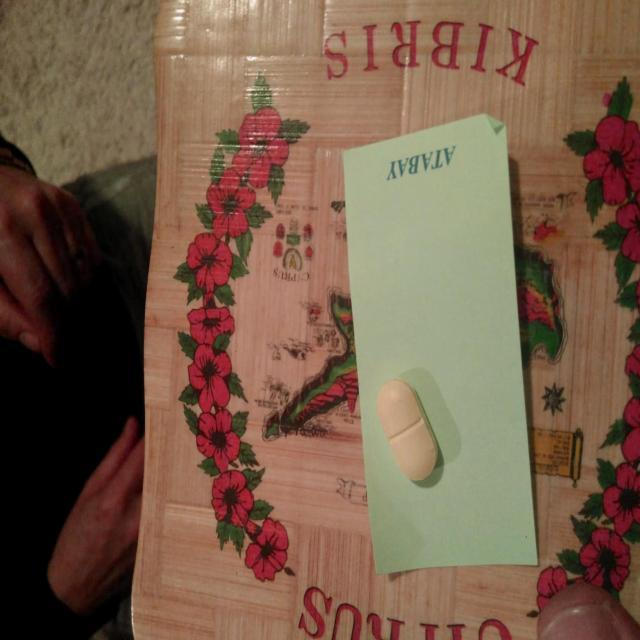pill: (372, 376, 442, 487)
